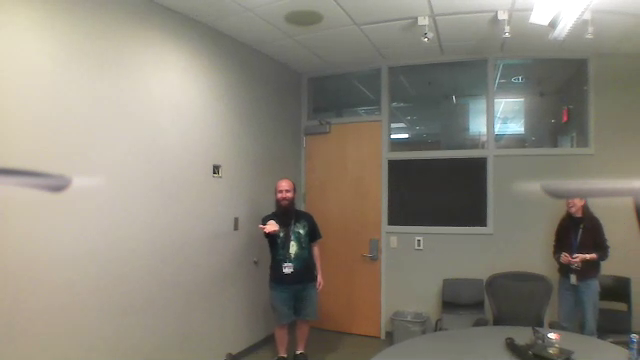land: (259, 223, 285, 239)
